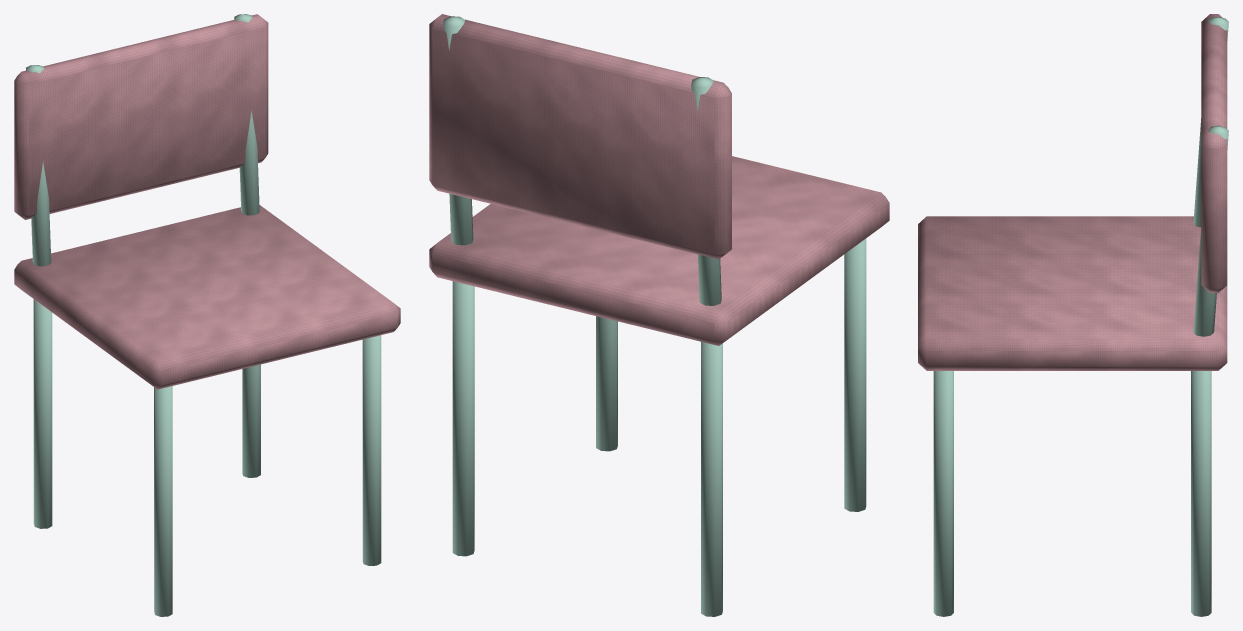
File: ChaiseAttente.glb
3 views of the same model, side by side, from view 1: azimuth 30°, elevation 25°; view 2: azimuth 150°, elevation 25°; view 3: azimuth 270°, elevation 25° (orthographic). The views are drawn at different scales.
Parts seen in each view (by area): view 1: Assise, Pieds; view 2: Assise, Pieds; view 3: Assise, Pieds.
Boxes of the visible parts, x1,y1,x2,y2 form: Assise: [14, 14, 400, 389]; Pieds: [26, 14, 381, 616]; Assise: [429, 14, 889, 345]; Pieds: [443, 16, 866, 616]; Assise: [918, 14, 1227, 370]; Pieds: [933, 17, 1228, 616].
Size of the model in its own units: 0.36 by 0.628 by 0.362.
2 materials, 1 textured.
